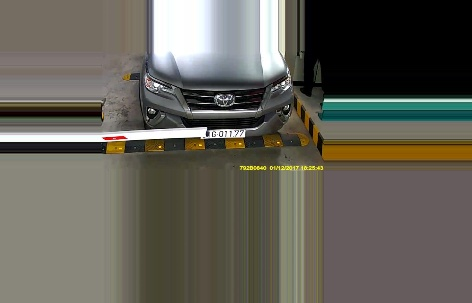plate: (198, 125, 245, 140)
